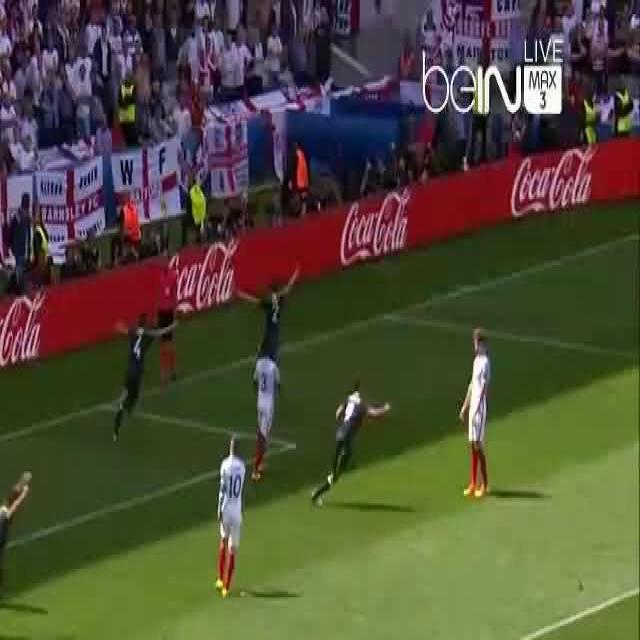player-white: (312, 381, 392, 501), (112, 313, 180, 442), (233, 264, 300, 394), (0, 473, 31, 640), (460, 328, 490, 500), (218, 434, 246, 599), (250, 341, 280, 480), (155, 253, 177, 380)
